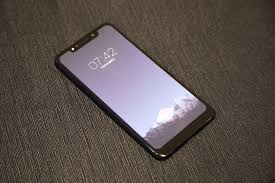mobil: (52, 21, 217, 161)
